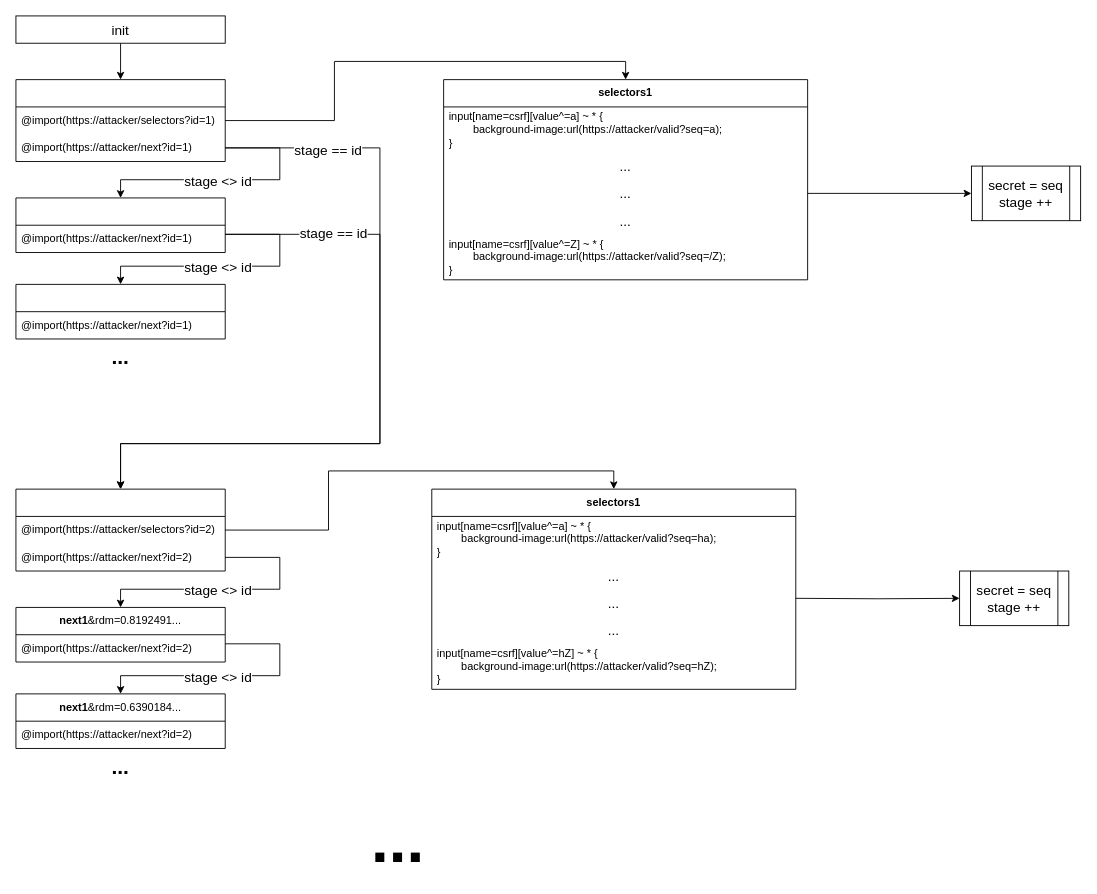
Some shapes in this 1097 by 894 pixel diagram are drawn without their labels. The box of each missing label's shape, as (x1, y1, x2, y2) in pixels:
next0: (15, 79, 225, 162)
next0 &rdm=0.6390184...: (15, 283, 225, 339)
next0 &rdm=0.8192491...: (15, 197, 225, 253)
next1: (15, 488, 225, 571)
